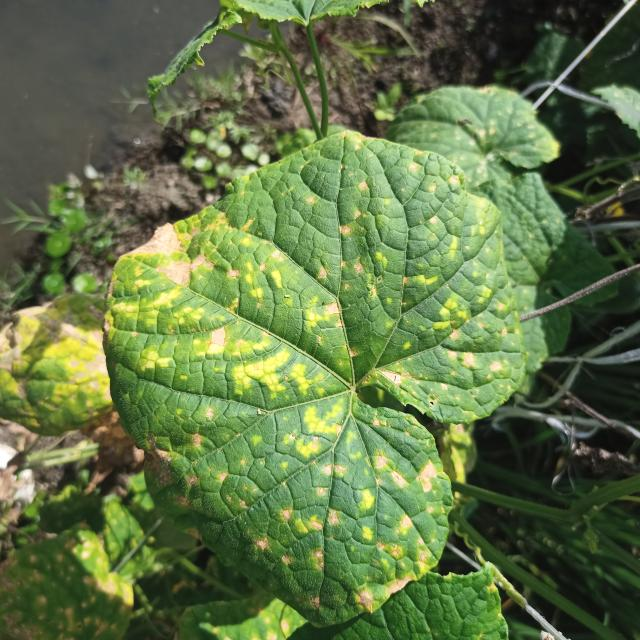disease_cucumber: (110, 173, 525, 608)
